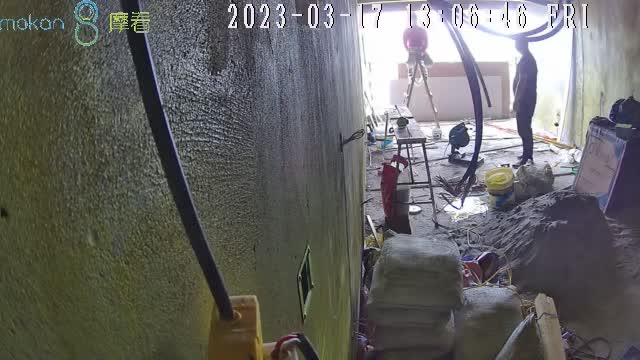people: (509, 35, 538, 167), (403, 14, 432, 86)
window: (373, 9, 510, 105)
